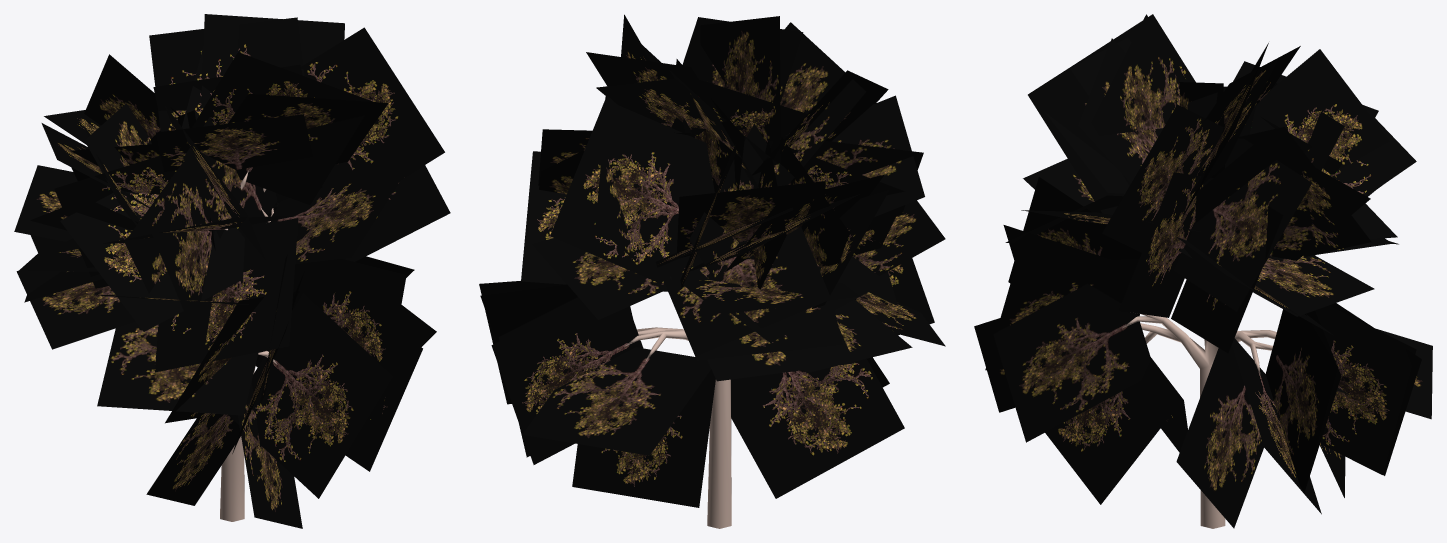
Rendered from tree23.glb.
The picture shows the model from 3 angles, left to right: view 1: azimuth 30°, elevation 25°; view 2: azimuth 150°, elevation 25°; view 3: azimuth 270°, elevation 25°; orthographic projection.
Bounding box in the file's own units: 6.11 × 7.31 × 6.13.
Materials: 2 (1 with a texture image).
